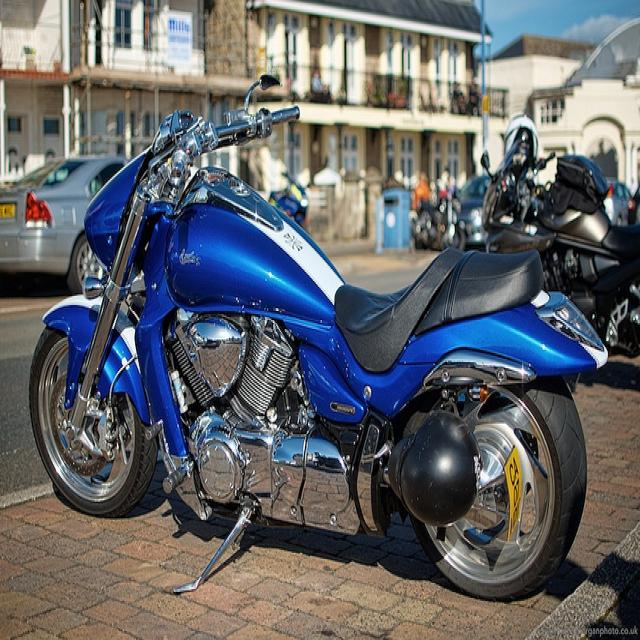motor: (28, 75, 608, 604), (474, 145, 640, 360), (427, 189, 468, 249)
